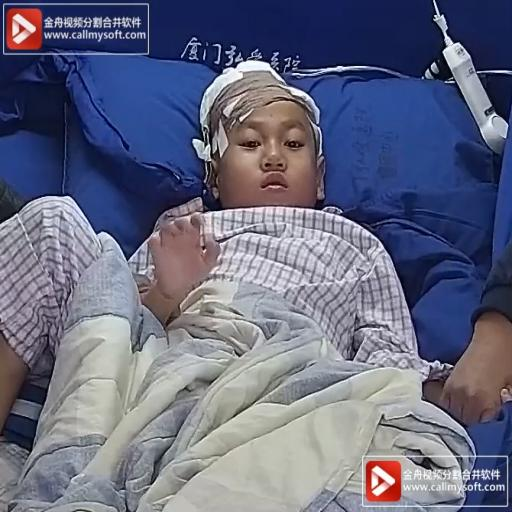Netural: (190, 59, 342, 216)
